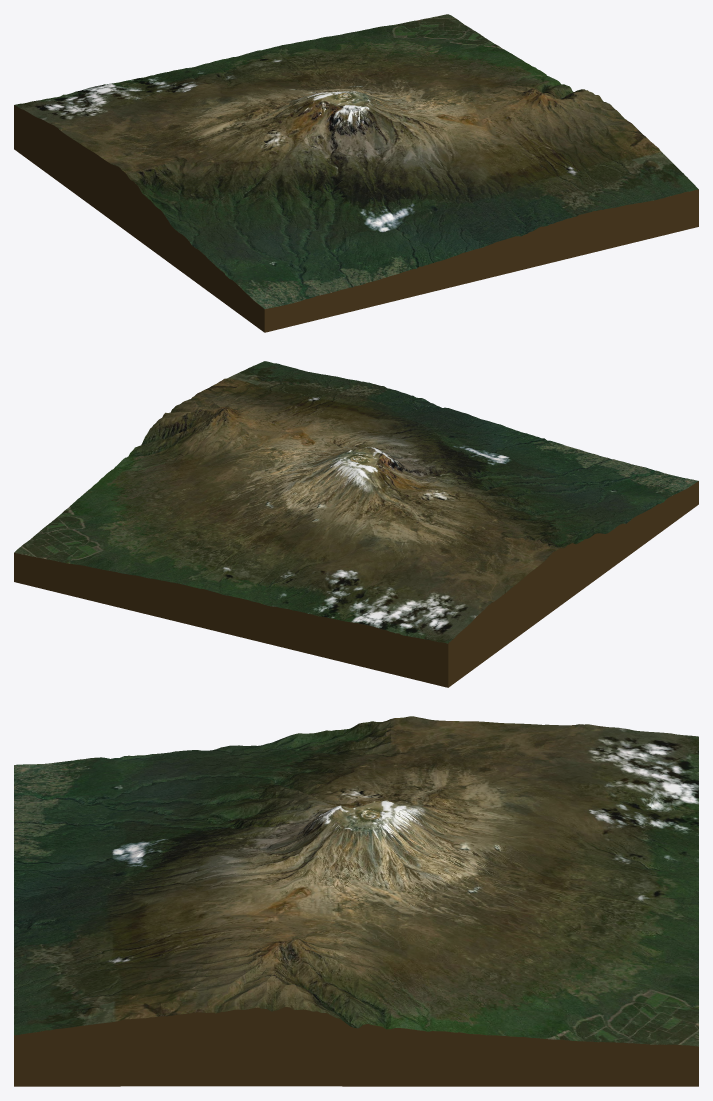
3 renders of one model, top to bottom at view 1: azimuth 30°, elevation 25°; view 2: azimuth 150°, elevation 25°; view 3: azimuth 270°, elevation 25°, orthographic. The views are drawn at different scales.
Visible parts, largest first — view 1: Kilimanjaro_v3_0; view 2: Kilimanjaro_v3_0; view 3: Kilimanjaro_v3_0.
Part boxes in pixels (x1,y1,x2,y2): Kilimanjaro_v3_0: [14, 14, 698, 332]; Kilimanjaro_v3_0: [14, 361, 698, 687]; Kilimanjaro_v3_0: [14, 716, 698, 1086].
Bounding box in the file's own units: 29355 × 5880 × 29355.
2 materials, 1 textured.
